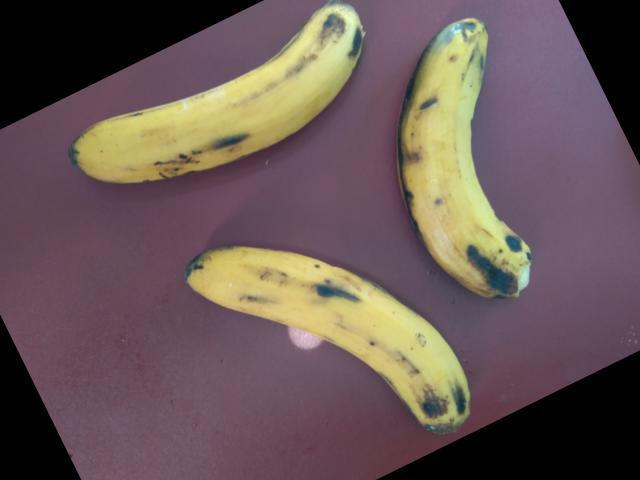overripe: (387, 3, 551, 306)
ripe: (188, 239, 492, 459), (49, 0, 368, 187)
